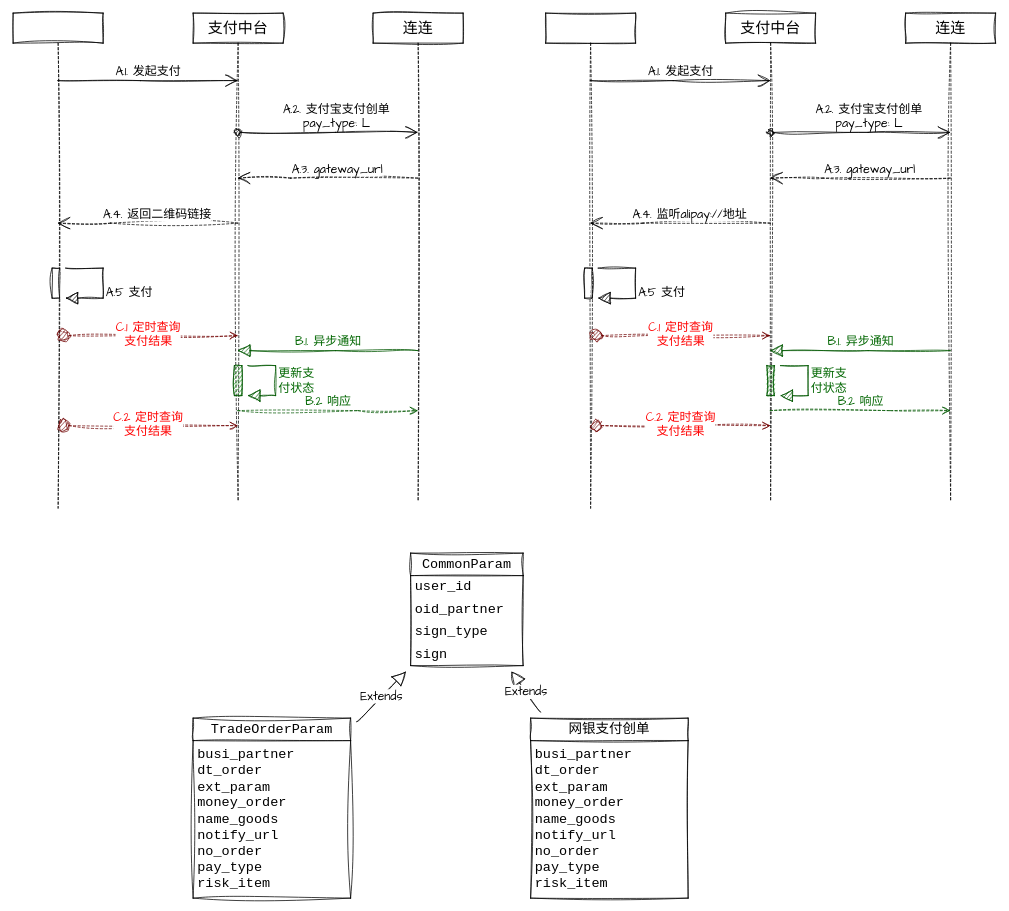
The diagram is 1009 pixels wide and 911 high, and some of its shapes have lost their labels. The shapes that lost their labels are listed below. From the top down, each one's centre as x and y in pixels, then its label:
At point 57,260: "电商Web".
At point 590,260: "电商APP".
